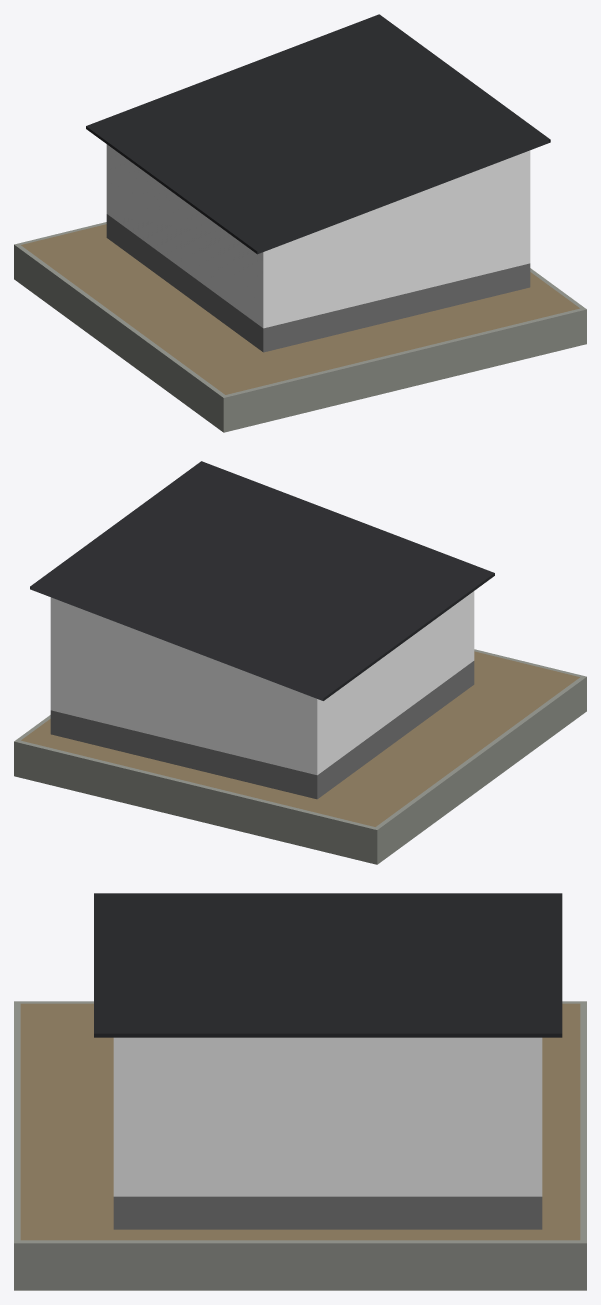
Rendered from site_hut2_far.fbx.
The picture shows the model from 3 angles, top to bottom: view 1: azimuth 30°, elevation 25°; view 2: azimuth 150°, elevation 25°; view 3: azimuth 270°, elevation 25°; orthographic projection. The views are drawn at different scales.
Parts seen in each view (by area): view 1: a2015.site_hut2.far; view 2: a2015.site_hut2.far; view 3: a2015.site_hut2.far.
Part boxes in pixels (<box>): a2015.site_hut2.far: <box>14,14,586,432</box>; a2015.site_hut2.far: <box>14,461,586,864</box>; a2015.site_hut2.far: <box>14,893,586,1290</box>.
Bounding box in the file's own units: 10.4 × 5.05 × 10.4.
